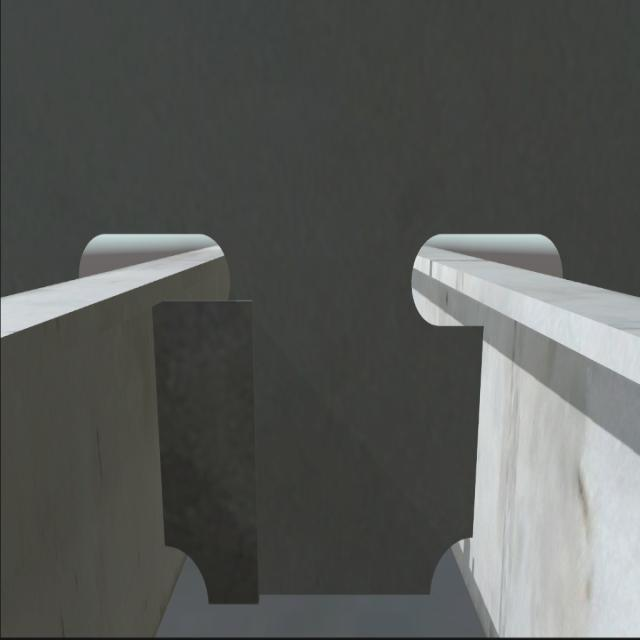fillet_hole: (163, 542, 210, 601), (427, 537, 471, 600)
fillet_yong_jeop_jang: (206, 580, 432, 608)
longi_yong_jeop_jang: (148, 297, 173, 551), (468, 313, 486, 539)
plate_CP01: (155, 297, 259, 598)
